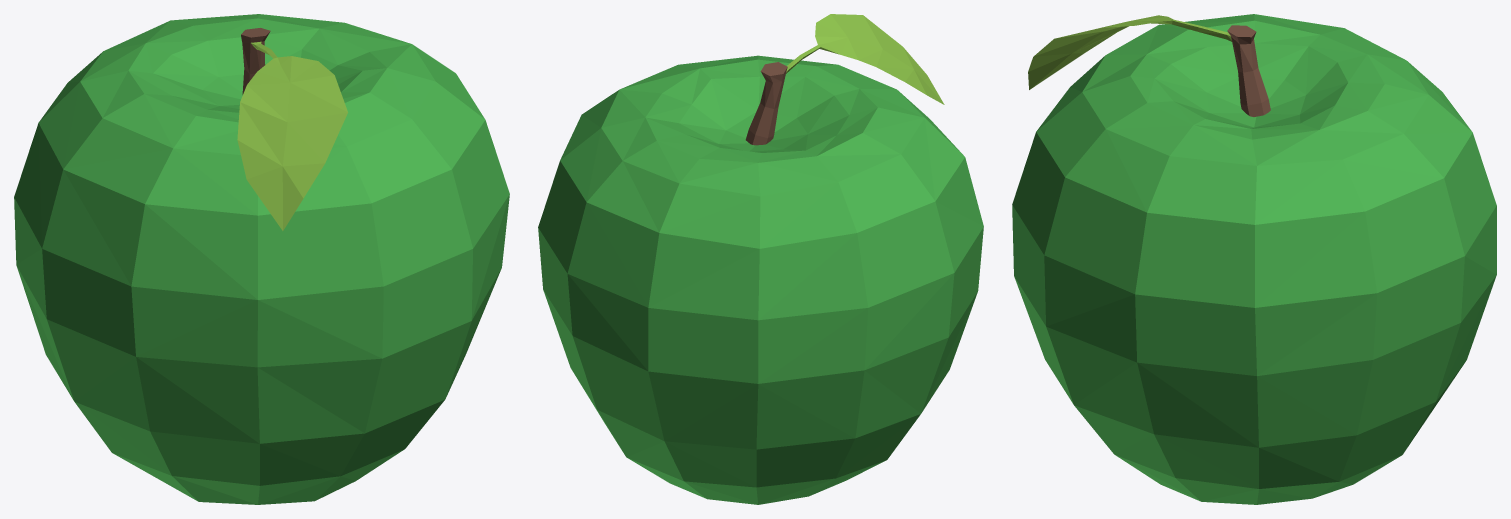
Rendered from apple-green.glb.
3 views of the same model, side by side, from view 1: azimuth 30°, elevation 25°; view 2: azimuth 150°, elevation 25°; view 3: azimuth 270°, elevation 25° (orthographic). The views are drawn at different scales.
Parts seen in each view (by area): view 1: group422595362, group916963156; view 2: group422595362, group916963156; view 3: group422595362, group916963156.
Part boxes in pixels (x1,y1,x2,y2): group422595362: (14,14,509,504); group916963156: (237,28,347,230); group422595362: (538,55,983,504); group916963156: (745,14,944,145); group422595362: (1012,14,1496,504); group916963156: (1028,15,1270,116).
Size of the model in its own units: 1.66 by 1.63 by 1.63.
